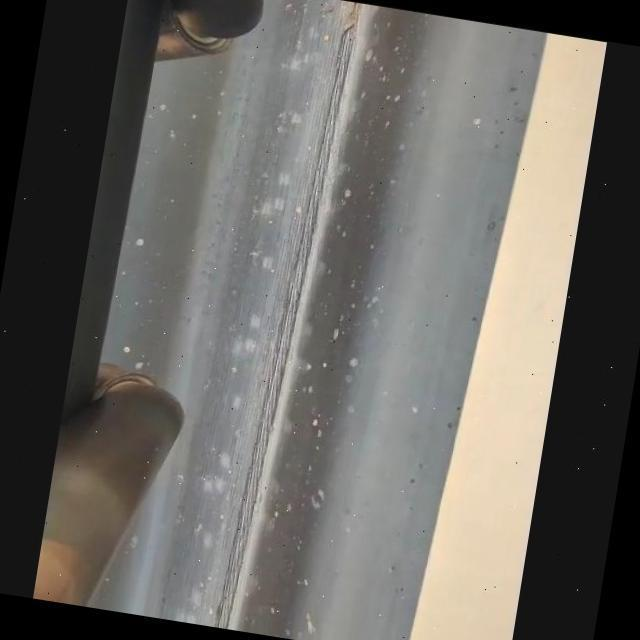Wear: (212, 0, 366, 629)
